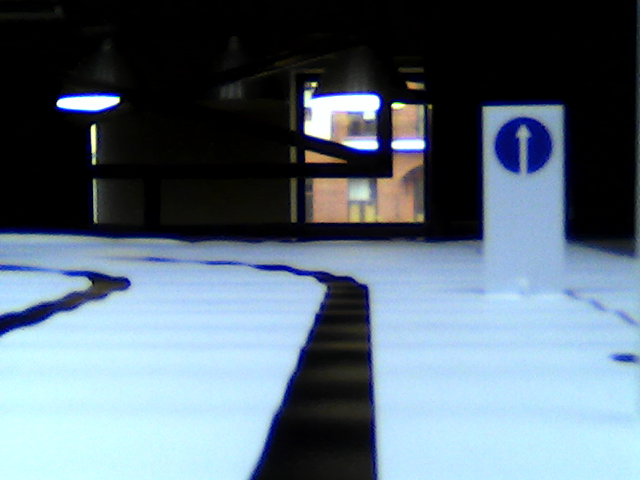forw: (492, 115, 554, 179)
